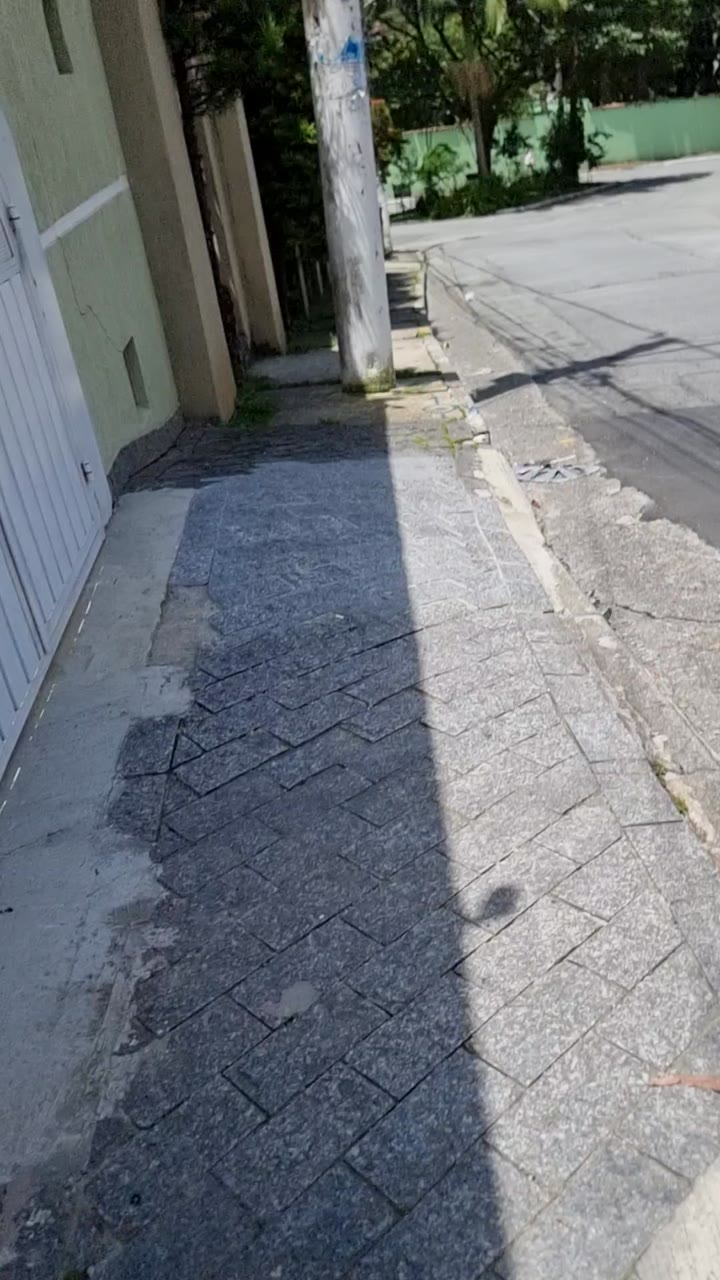obstaculo: (302, 0, 396, 333)
